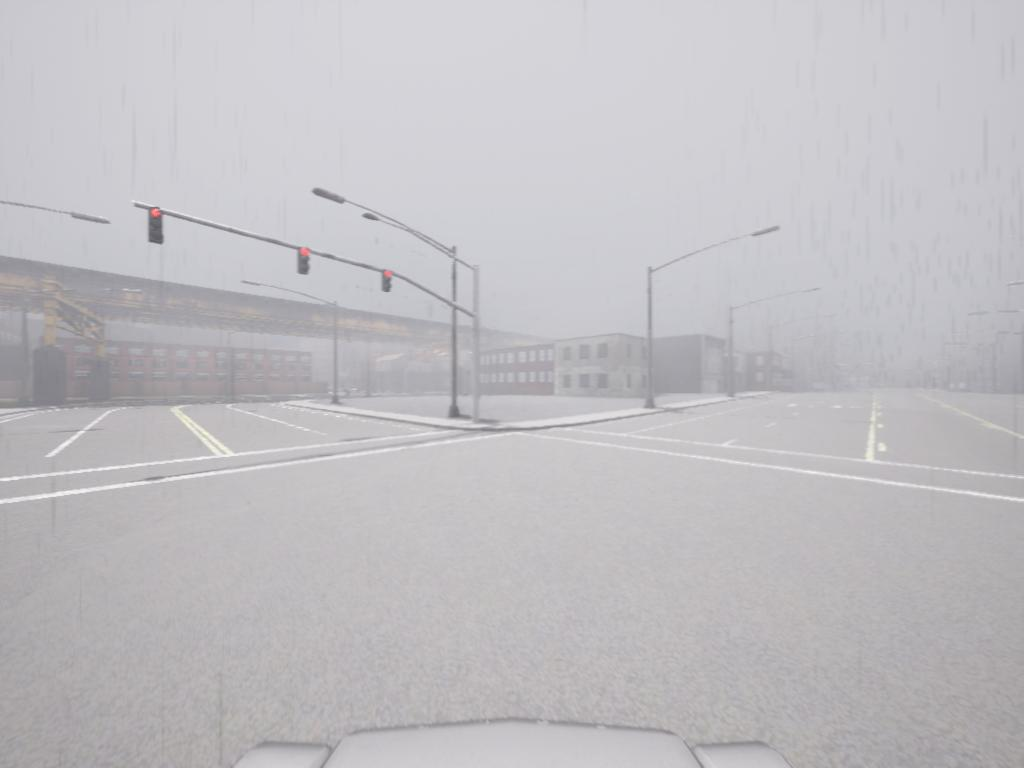traffic_light: (149, 210, 166, 247), (300, 249, 315, 277), (382, 270, 393, 294)
